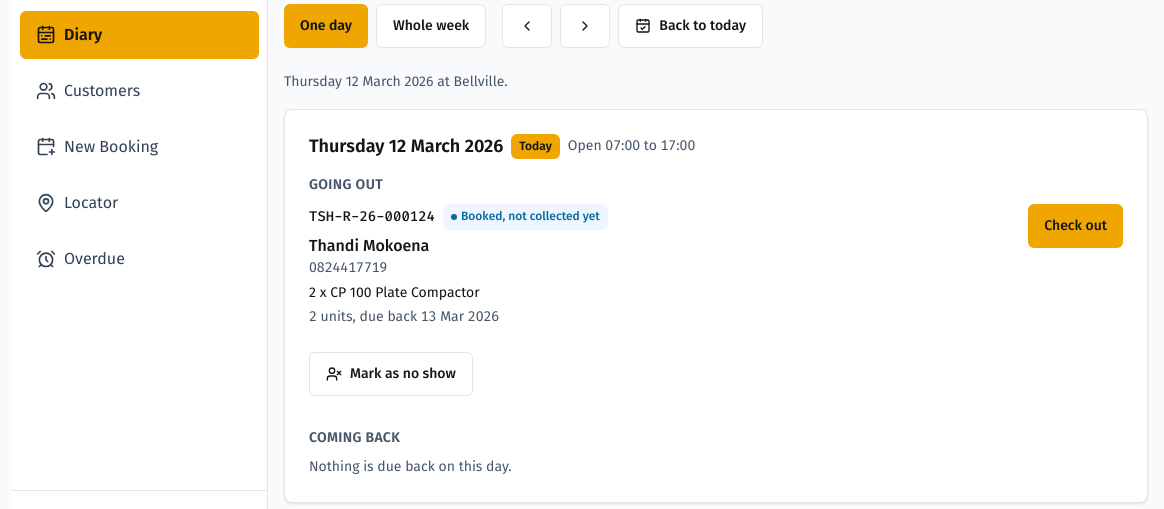
Test case: the question › sends nothing without a reason, and says so under the box
Click the button "Mark as no show": (391, 374) [309,352,473,396]
(page scrolled)
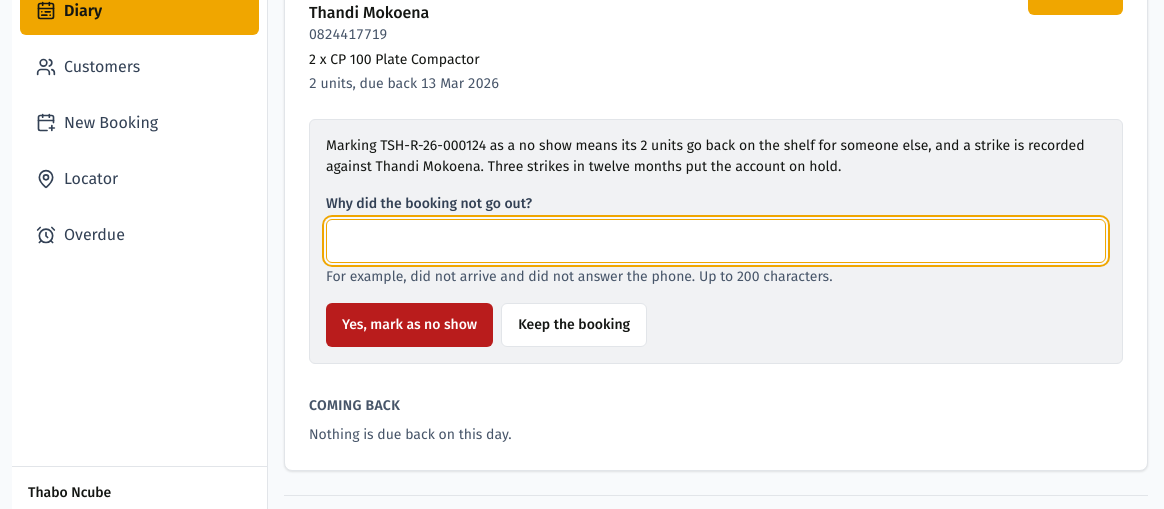
Click the button "Yes, mark as no show": (410, 325) [326,303,493,347]
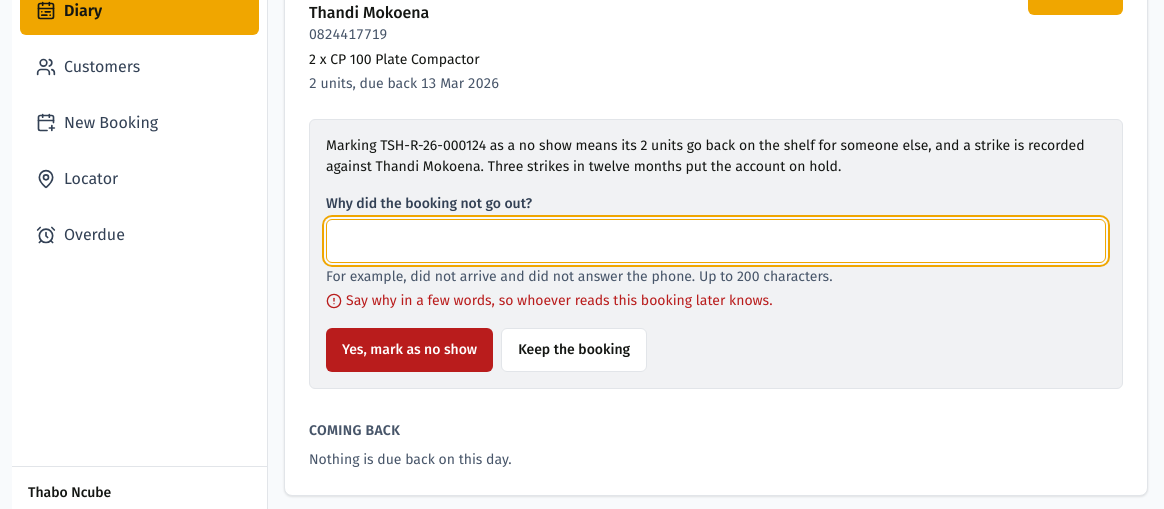
Expected: the text "Say why in a few words" is shown, [346,292,772,309]
